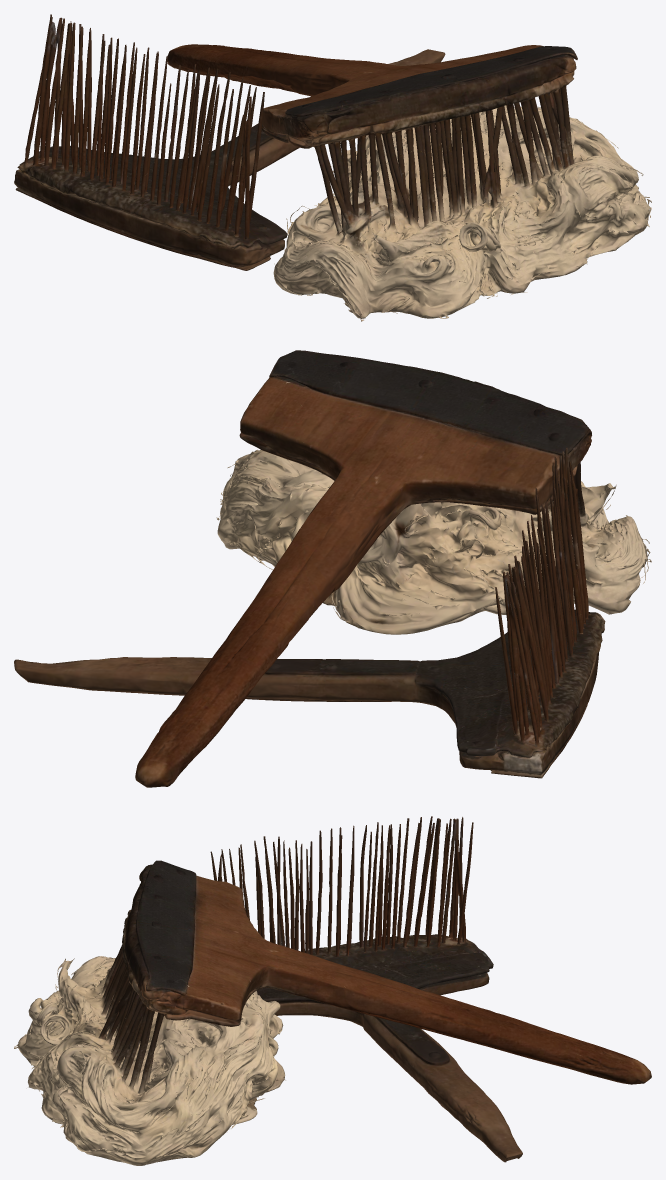
The model's file is grebeni.glb.
The picture shows the model from 3 angles, top to bottom: view 1: azimuth 30°, elevation 25°; view 2: azimuth 150°, elevation 25°; view 3: azimuth 270°, elevation 25°; orthographic projection. The views are drawn at different scales.
Bounding box in the file's own units: 1.44 × 0.5399 × 1.86.
Materials: 1 (1 with a texture image).
